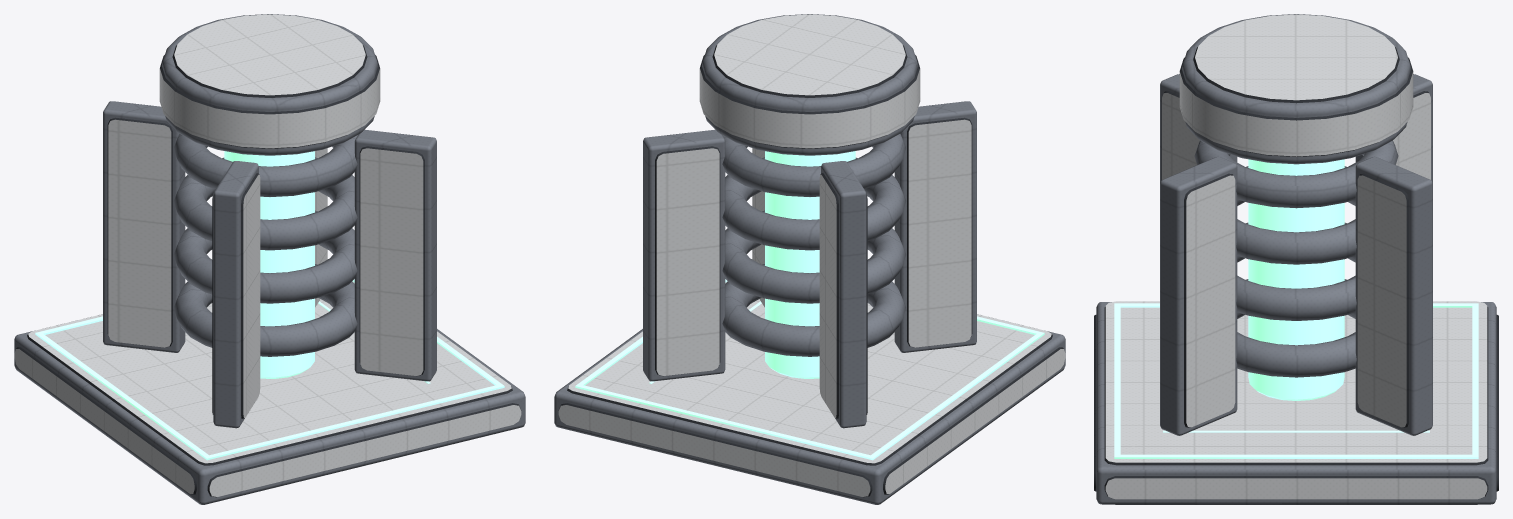
Rendered from R4X_EnergyRegenerator.glb.
3 renders of one model, left to right at view 1: azimuth 30°, elevation 25°; view 2: azimuth 150°, elevation 25°; view 3: azimuth 270°, elevation 25°, orthographic. The views are drawn at different scales.
Visible parts, largest first — view 1: R4X_EnergyRegenerator_Body; view 2: R4X_EnergyRegenerator_Body; view 3: R4X_EnergyRegenerator_Body.
Part boxes in pixels (x1,y1,x2,y2): R4X_EnergyRegenerator_Body: (14, 14, 525, 504); R4X_EnergyRegenerator_Body: (554, 14, 1065, 504); R4X_EnergyRegenerator_Body: (1094, 14, 1498, 504).
Bounding box in the file's own units: 0.52 × 0.52 × 0.52.
Materials: 4 (3 with a texture image).
